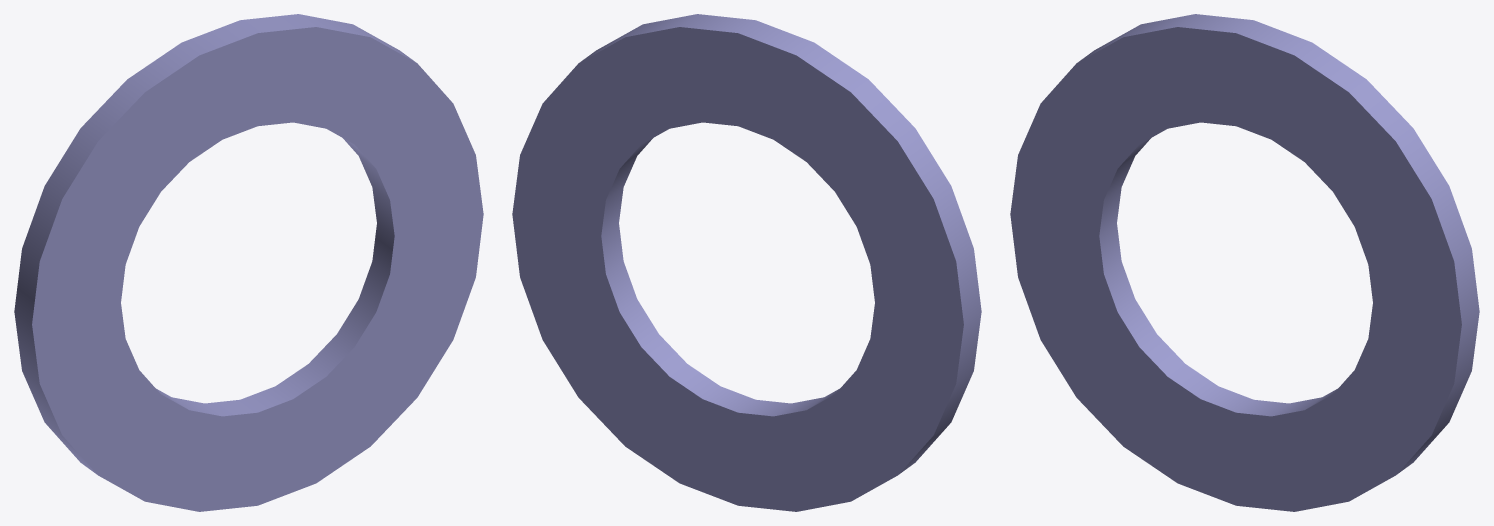
File: PDCUpstreamBPipePlugPipe.gltf
3 views of the same model, side by side, from view 1: azimuth 30°, elevation 25°; view 2: azimuth 150°, elevation 25°; view 3: azimuth 330°, elevation 25° (orthographic).
Parts seen in each view (by area): view 1: logicPDCUpstreamBPipePlugPipe_pv0x2242470; view 2: logicPDCUpstreamBPipePlugPipe_pv0x2242470; view 3: logicPDCUpstreamBPipePlugPipe_pv0x2242470.
Boxes of the visible parts, box(x1,y1,x2,y2) form: logicPDCUpstreamBPipePlugPipe_pv0x2242470: box(14, 14, 483, 511); logicPDCUpstreamBPipePlugPipe_pv0x2242470: box(512, 14, 981, 511); logicPDCUpstreamBPipePlugPipe_pv0x2242470: box(1010, 14, 1479, 511).
Bounding box in the file's own units: 41.91 × 41.91 × 2.85.
